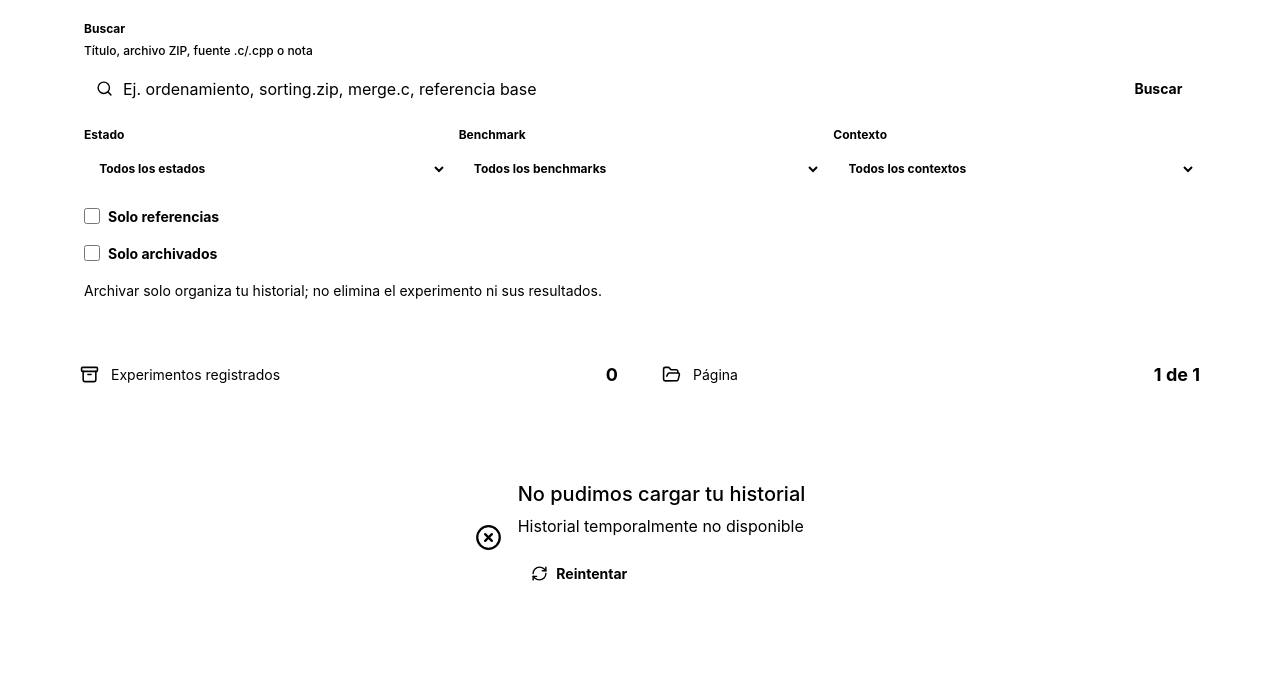
Test: HistoryPage › shows a recoverable history error without coupling it to filter options
The width and height of the screenshot is (1280, 699).
(page scrolled)
Expected: the heading "No pudimos cargar tu historial" is shown, [518,482,805,506]
Click the button "Reintentar" at (579, 574), box [518,554,641,594]
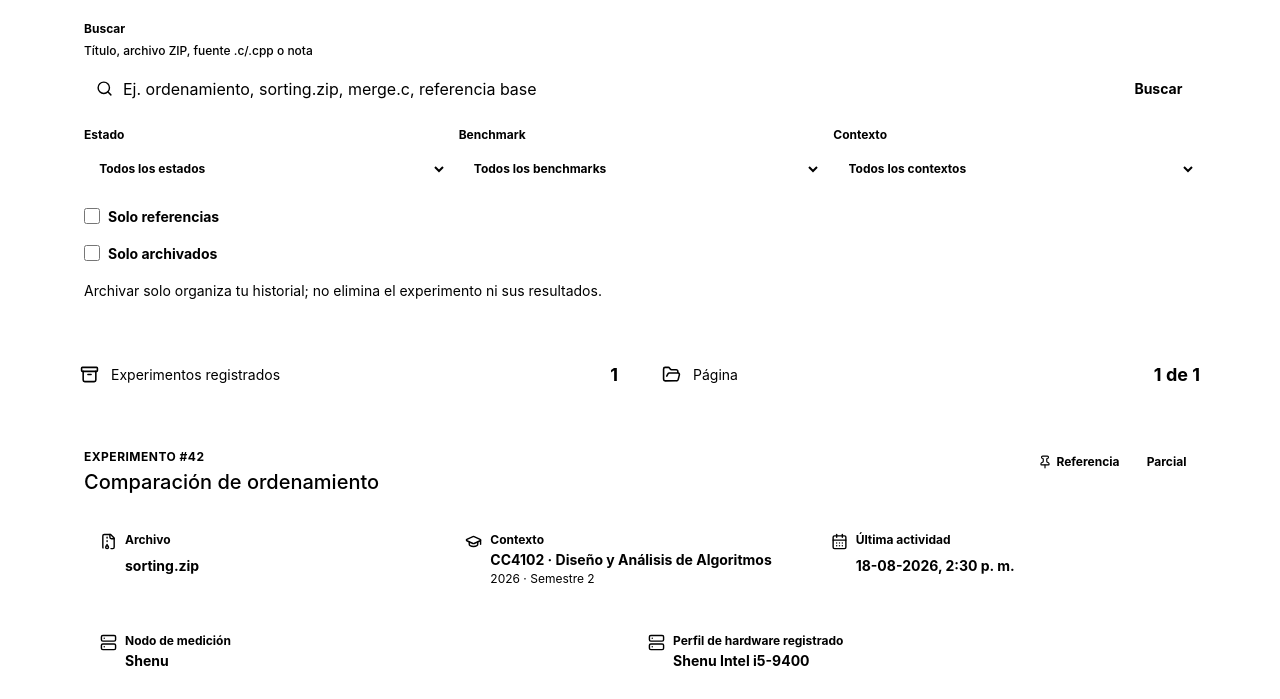
Expected: the heading "Comparación de ordenamiento" is shown, [84,470,379,495]
